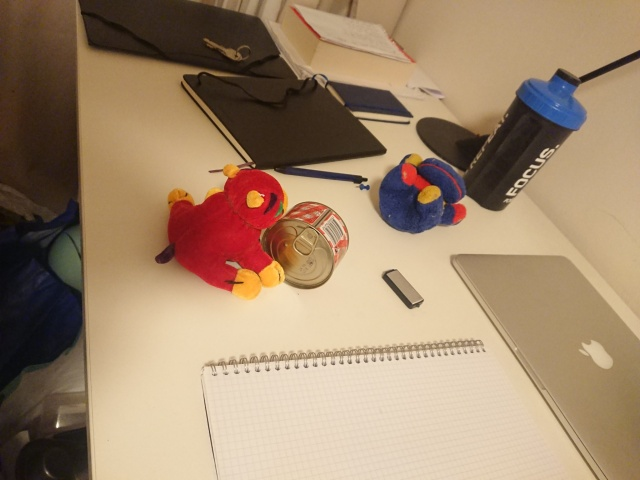Podravka Luncheon Meat 150g: (258, 200, 351, 292)
